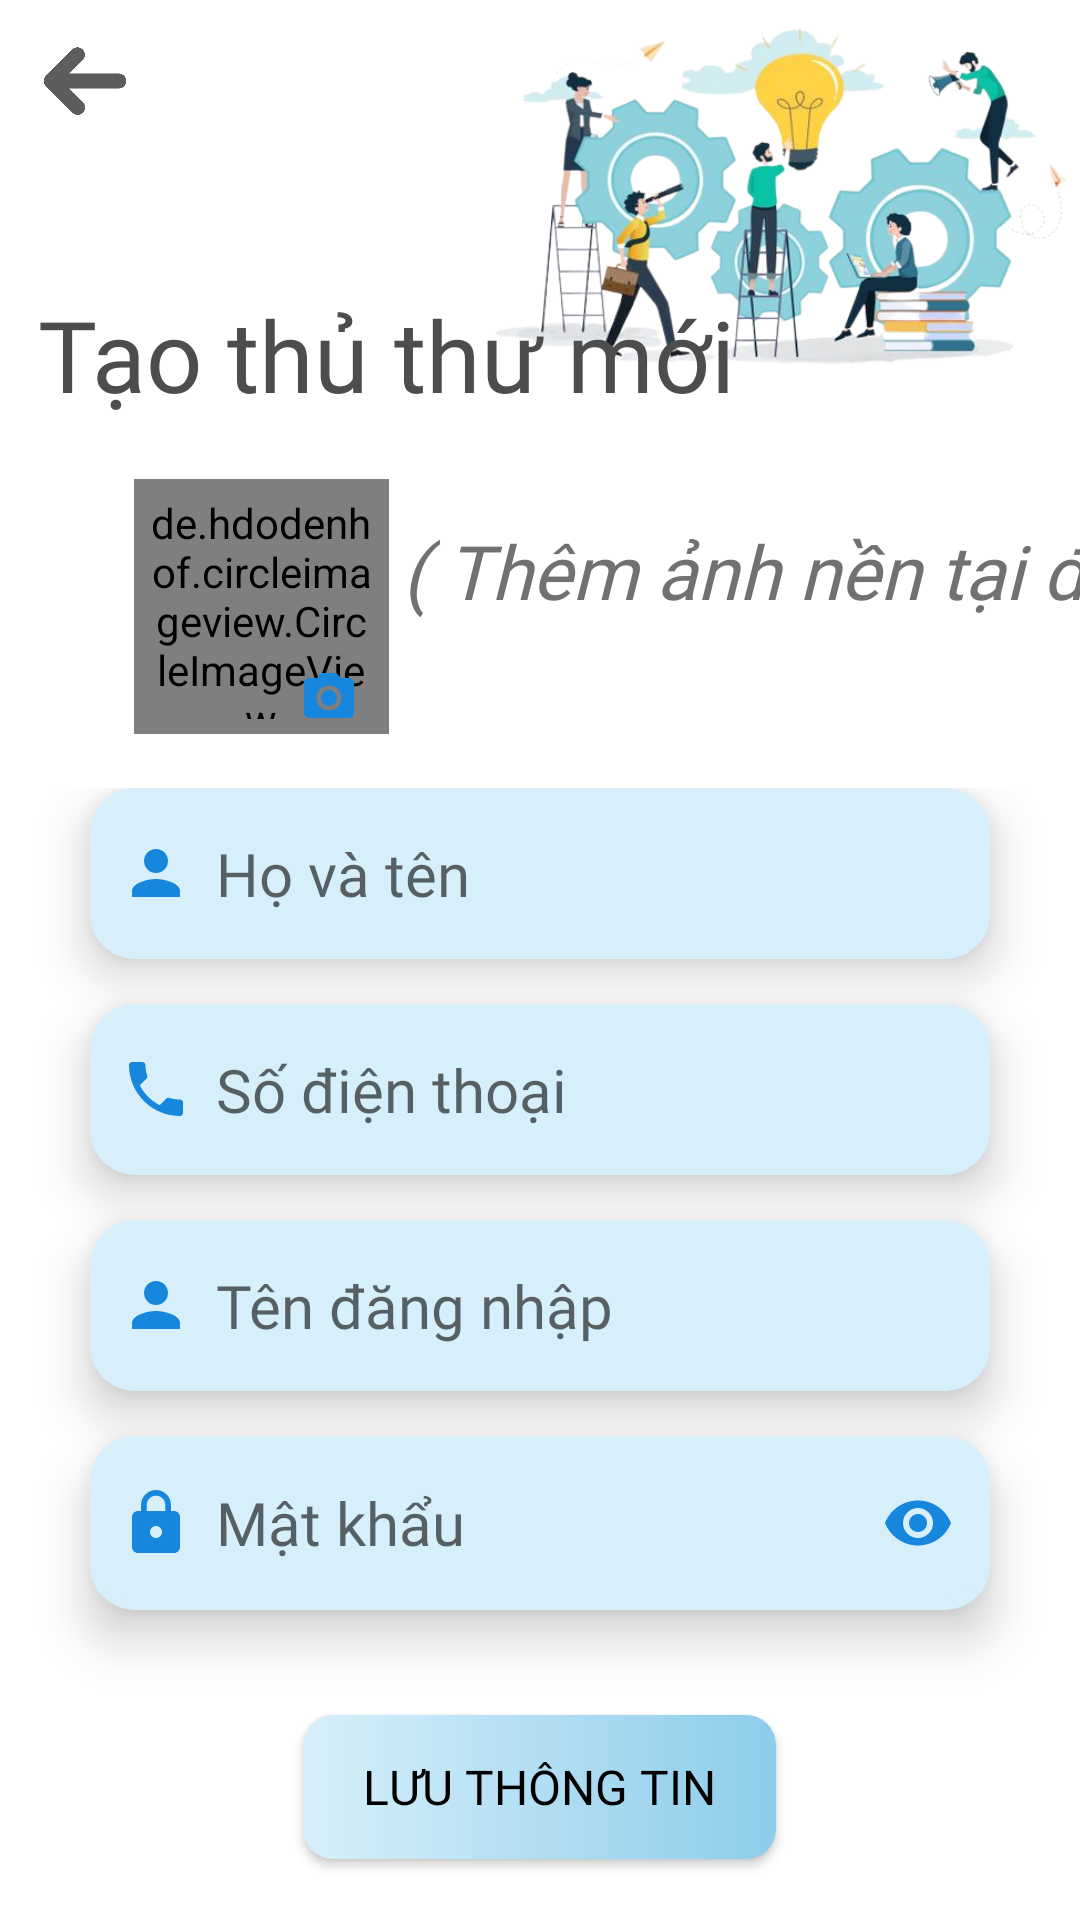

Where icons sit on this 1080×1920 app screen, as (x1, y1, x2, y2):
back: (44, 47, 126, 115)
